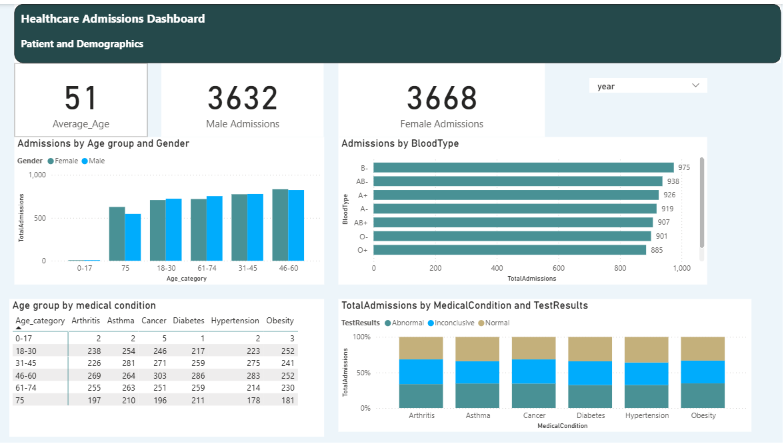

The page's visual inventory and layout, read from the dashboard file:
{"tool":"powerbi","page":{"name":"Patient And Demographics","canvas":[1280,720],"ordinal":1},"visuals":[{"type":"card","fields":{"Values":["_Measures.Average_Age"]},"box":[24,96,216,120],"z":0},{"type":"card","fields":{"Values":["_Measures.Male Admissions"]},"box":[264,96,264,120],"z":1000},{"type":"card","fields":{"Values":["_Measures.Female Admissions"]},"box":[552,96,336,120],"z":2000},{"type":"clusteredColumnChart","title":"Admissions by Age group and Gender","fields":{"Category":["FactAdmissions.Age_category"],"Y":["_Measures.TotalAdmissions"],"Series":["FactAdmissions.Gender"]},"box":[24,216,504,240],"z":3000},{"type":"barChart","title":"Admissions by BloodType","fields":{"Y":["_Measures.TotalAdmissions"],"Category":["FactAdmissions.BloodType"]},"box":[552,216,600,240],"z":4000},{"type":"pivotTable","title":"Age group by medical condition","fields":{"Rows":["FactAdmissions.Age_category"],"Columns":["FactAdmissions.MedicalCondition"],"Values":["_Measures.TotalAdmissions"]},"box":[16,480,512,224],"z":5000},{"type":"hundredPercentStackedColumnChart","fields":{"Series":["FactAdmissions.TestResults"],"Y":["_Measures.TotalAdmissions"],"Category":["FactAdmissions.MedicalCondition"]},"box":[552,480,672,216],"z":6000},{"type":"slicer","fields":{"Values":["Dim_Date.year"]},"box":[960,120,192,24],"z":7000},{"type":"textbox","box":[24,0,1248,96],"z":8000},{"type":"textbox","box":[24,0,1248,96],"z":9000}]}

Visuals, with their boxes in screenshot pixels (x1, y1, x2, y2), scaled from the page's 1280x720 canvas onto the 783x443 screenshot:
card - _Measures.Average_Age: box(15, 59, 147, 133)
card - _Measures.Male Admissions: box(161, 59, 323, 133)
card - _Measures.Female Admissions: box(338, 59, 543, 133)
"Admissions by Age group and Gender" clusteredColumnChart: box(15, 133, 323, 281)
"Admissions by BloodType" barChart: box(338, 133, 705, 281)
"Age group by medical condition" pivotTable: box(10, 295, 323, 433)
hundredPercentStackedColumnChart - FactAdmissions.TestResults x _Measures.TotalAdmissions: box(338, 295, 749, 428)
slicer - Dim_Date.year: box(587, 74, 705, 89)
textbox: box(15, 0, 778, 59)
textbox: box(15, 0, 778, 59)
